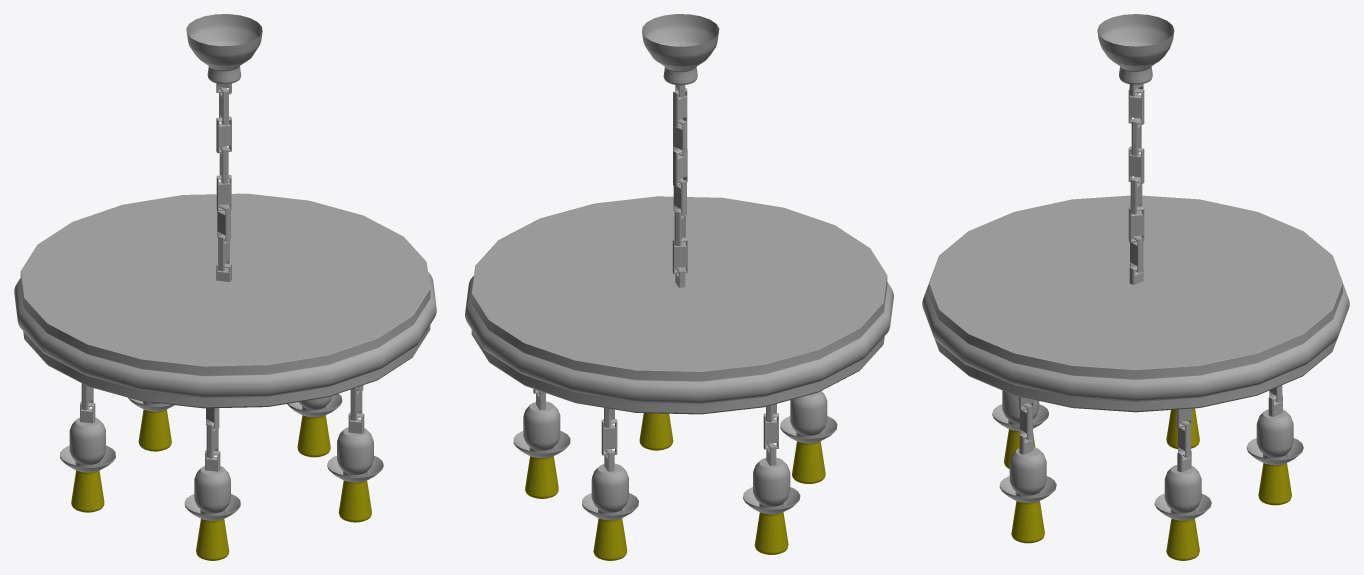
Rendered from Chandelier.fbx.
The picture shows the model from 3 angles, left to right: view 1: azimuth 30°, elevation 25°; view 2: azimuth 150°, elevation 25°; view 3: azimuth 270°, elevation 25°; orthographic projection.
Visible parts, largest first — view 1: Chandelier; view 2: Chandelier; view 3: Chandelier.
Part boxes in pixels (x1,y1,x2,y2): Chandelier: (14,14,436,560); Chandelier: (465,14,893,560); Chandelier: (922,14,1349,560).
Size of the model in its own units: 61.4 by 75 by 61.4.
